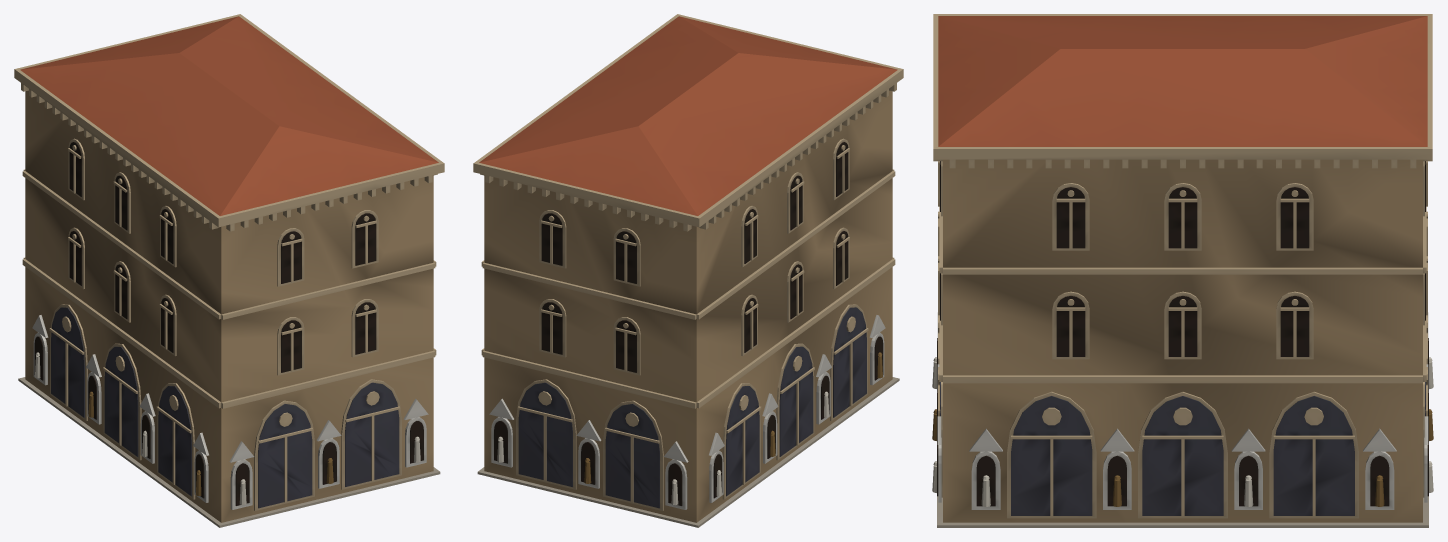
The model's file is orsanmichele.glb.
The picture shows the model from 3 angles, left to right: view 1: azimuth 30°, elevation 25°; view 2: azimuth 150°, elevation 25°; view 3: azimuth 270°, elevation 25°; orthographic projection. The views are drawn at different scales.
Parts seen in each view (by area): view 1: p0_walls, p1_roof; view 2: p0_walls, p1_roof; view 3: p0_walls, p1_roof.
Boxes of the visible parts, x1=… form: p0_walls: x1=18, y1=90, x2=440, y2=527; p1_roof: x1=14, y1=14, x2=444, y2=231; p0_walls: x1=477, y1=90, x2=899, y2=527; p1_roof: x1=473, y1=14, x2=903, y2=231; p0_walls: x1=932, y1=159, x2=1433, y2=527; p1_roof: x1=933, y1=14, x2=1432, y2=168.
Bounding box in the file's own units: 26.78 × 38 × 41.78.
